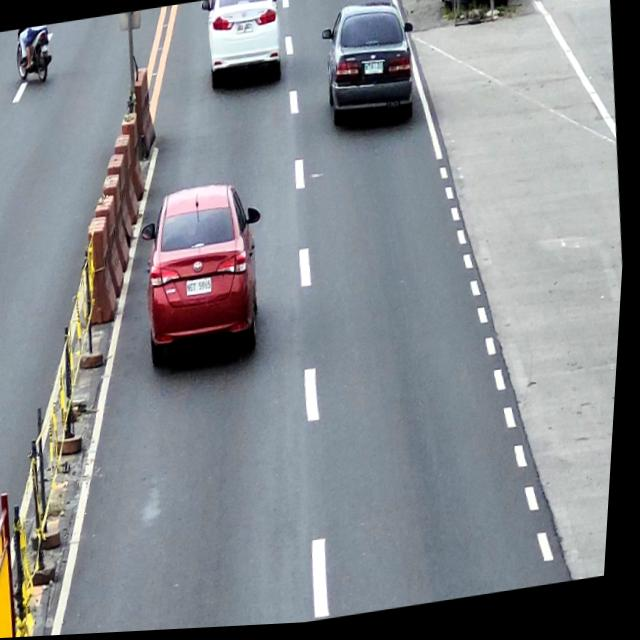Car: (133, 178, 279, 373), (316, 0, 424, 137), (196, 0, 291, 94)
License-Plate: (189, 279, 216, 298), (364, 64, 385, 78), (235, 23, 254, 36)
Motorcycle: (12, 25, 54, 86)
